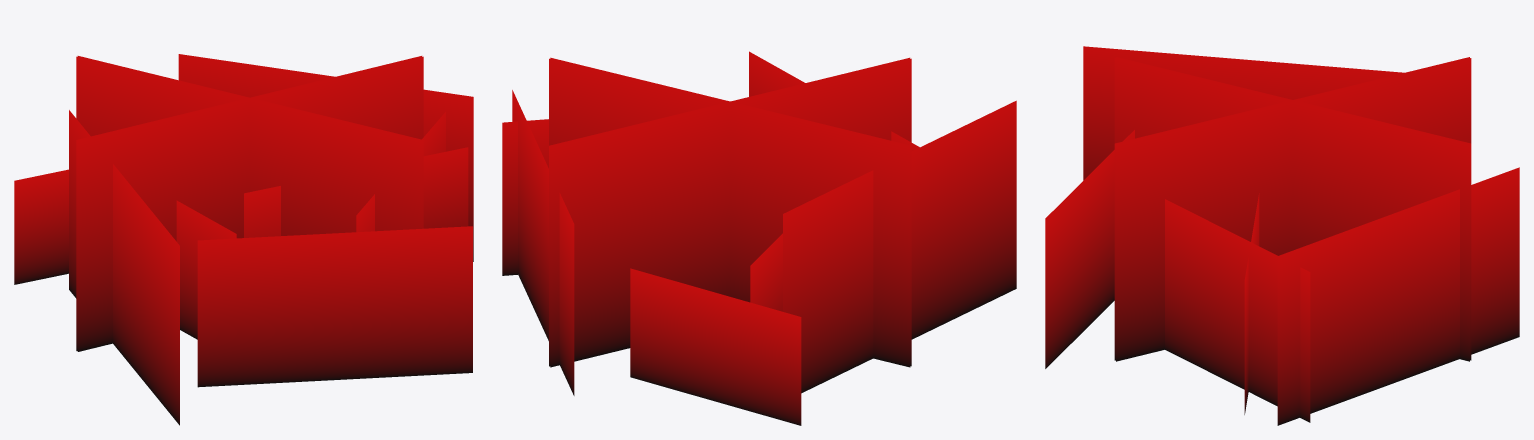
The model's file is SM_Grass_01-3.fbx.
The picture shows the model from 3 angles, left to right: view 1: azimuth 30°, elevation 25°; view 2: azimuth 150°, elevation 25°; view 3: azimuth 270°, elevation 25°; orthographic projection. The views are drawn at different scales.
Parts seen in each view (by area): view 1: SM_Nature_Grass_01-3; view 2: SM_Nature_Grass_01-3; view 3: SM_Nature_Grass_01-3.
Part boxes in pixels (left/top/right/bottom): SM_Nature_Grass_01-3: left=14, top=54, right=473, bottom=425; SM_Nature_Grass_01-3: left=502, top=51, right=1016, bottom=425; SM_Nature_Grass_01-3: left=1045, top=46, right=1519, bottom=425.
Bounding box in the file's own units: 33.63 × 17.47 × 34.54.
